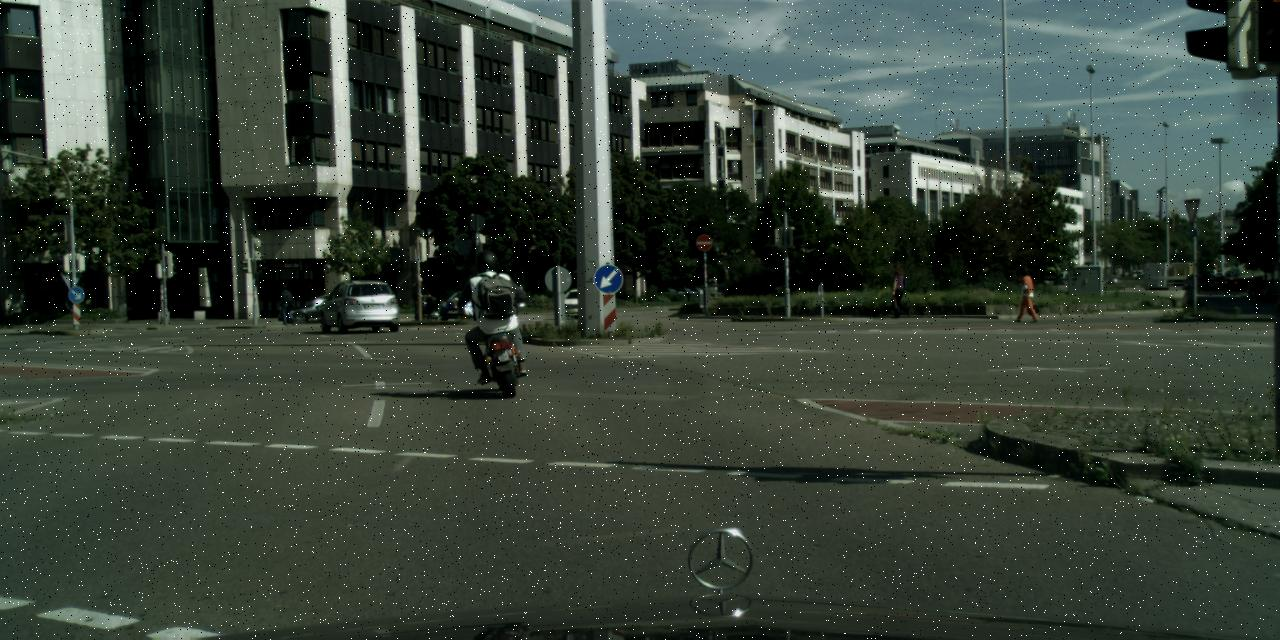ped: (469, 250, 520, 375), (1014, 266, 1036, 321), (890, 264, 910, 315), (409, 276, 427, 320), (278, 284, 294, 324)
